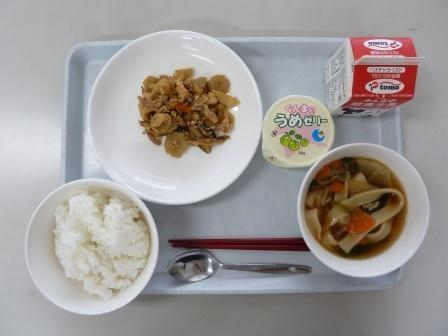Cup desserts: (255, 88, 337, 170)
Milk: (320, 25, 430, 125)
Rice: (29, 175, 155, 311)
noodles soup: (300, 152, 429, 270)
vegetable based cooked food: (125, 58, 248, 167)
